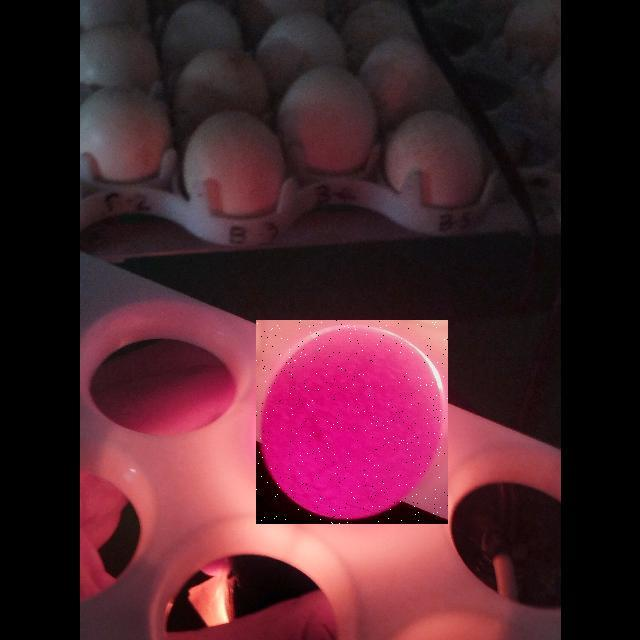Infertile: (256, 320, 448, 524)
